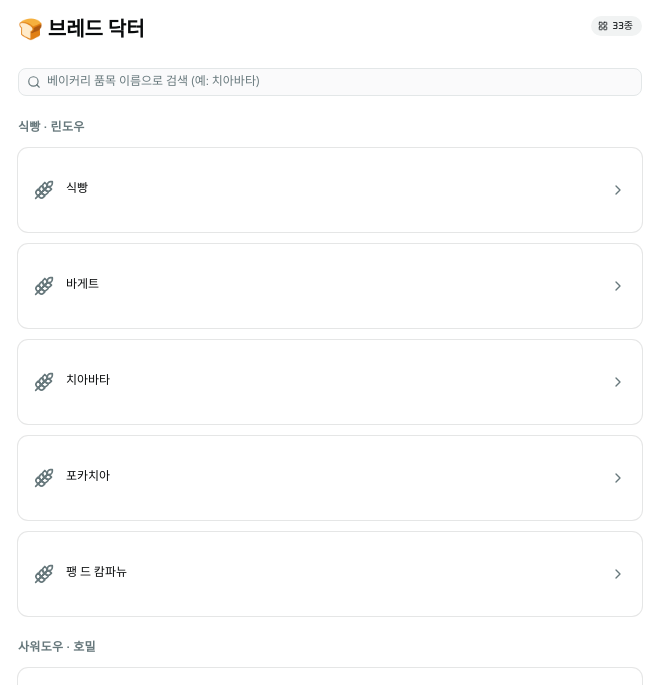
Test: BreadDoctor › Scenario 2: 주저앉음+큰기공+신맛 선택 → 1순위 과발효
Click the button "식빵": (44, 190) 18,164 -> 642,216
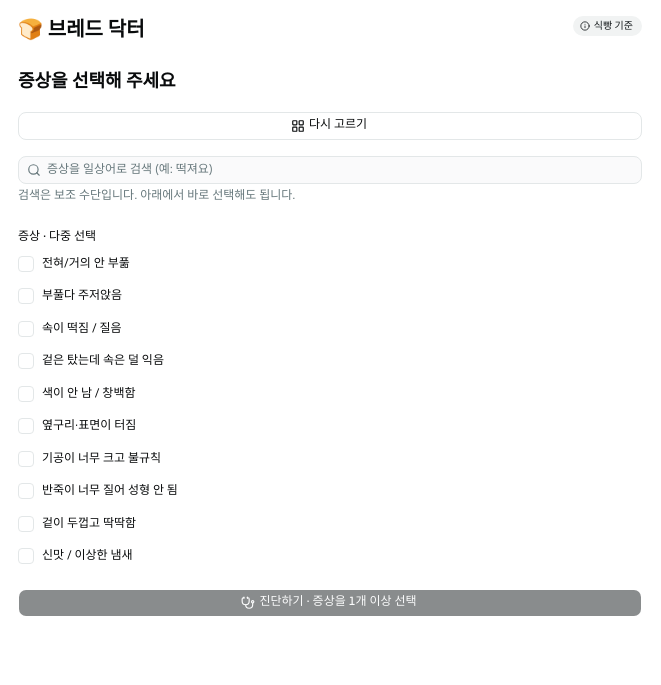
Click the checkbox named "부풀다 주저앉음" next to "부풀다 주저앉음": (26, 296) 18,288 -> 34,304
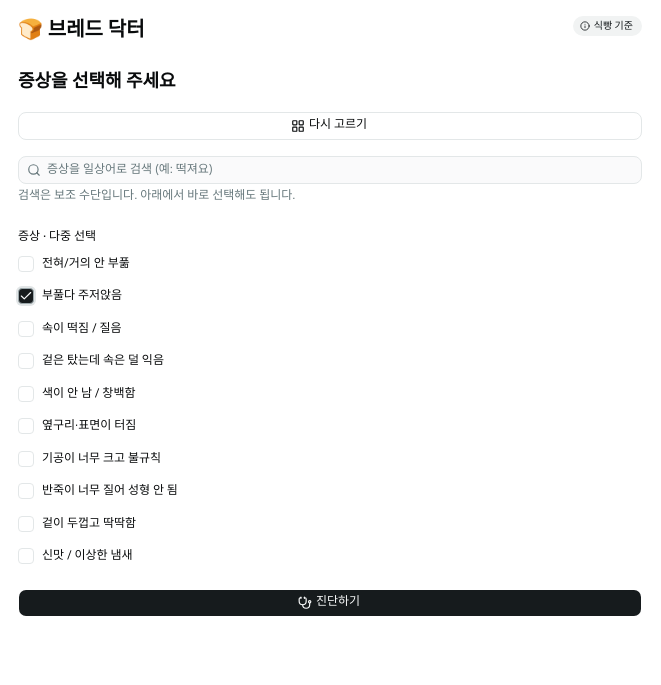
Click the checkbox named "기공이 너무 크고 불규칙" next to "기공이 너무 크고 불규칙": (26, 459) 18,451 -> 34,467
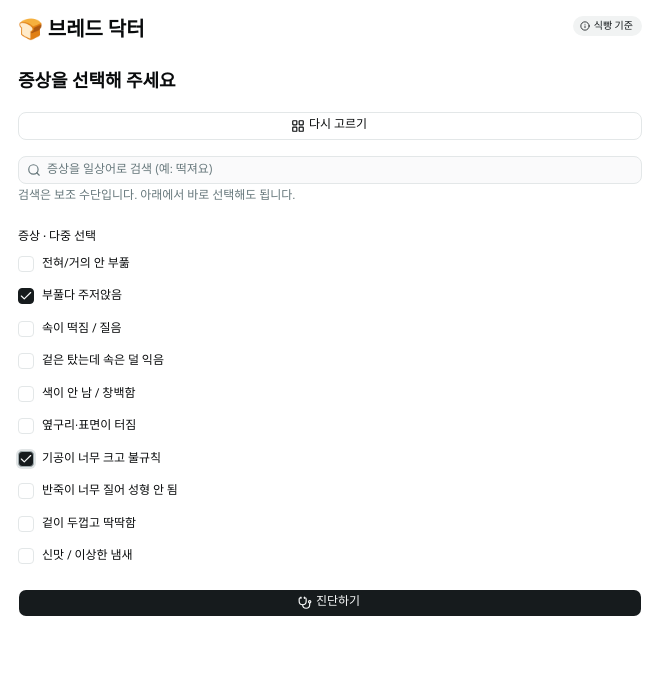
Click the checkbox named "신맛 / 이상한 냄새" next to "신맛 / 이상한 냄새": (26, 556) 18,548 -> 34,564
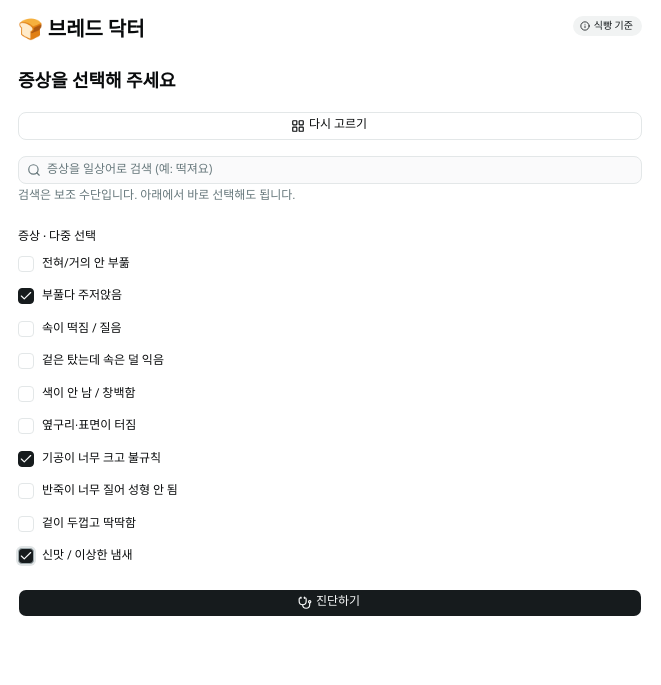
Click the button "진단하기": (330, 602) 18,588 -> 642,616
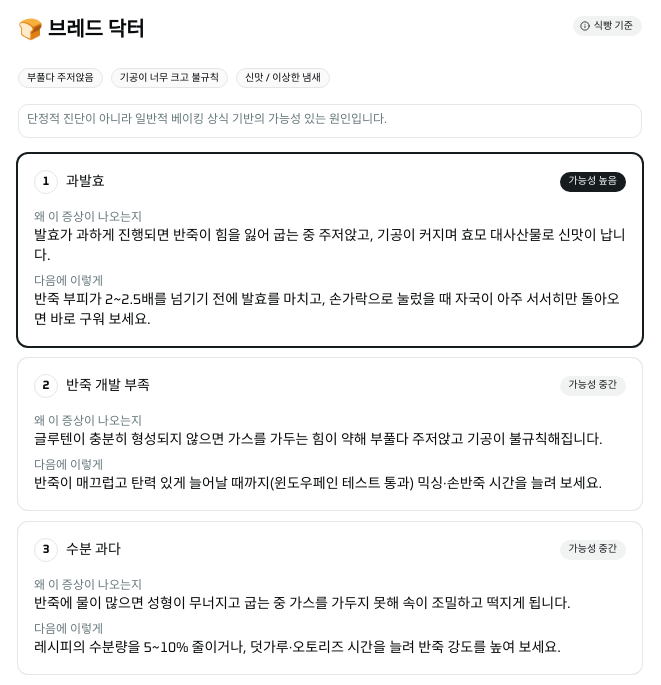
Check: the text "과발효" is shown, box 66,174 -> 105,188
